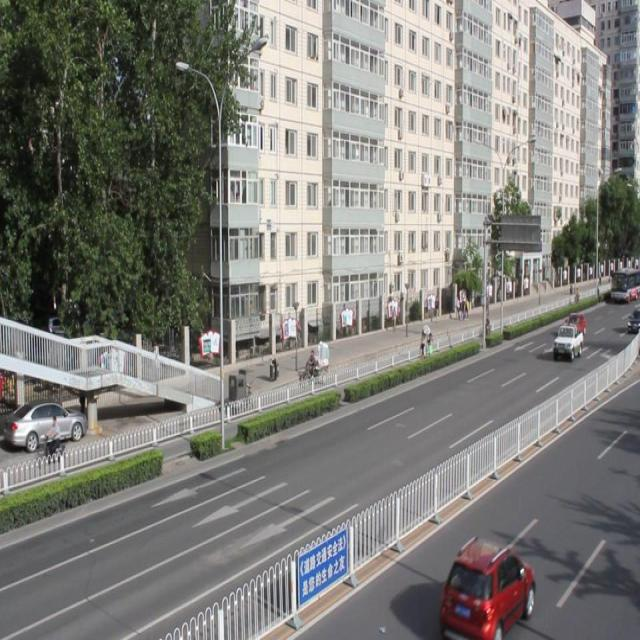car: (438, 534, 532, 640)
